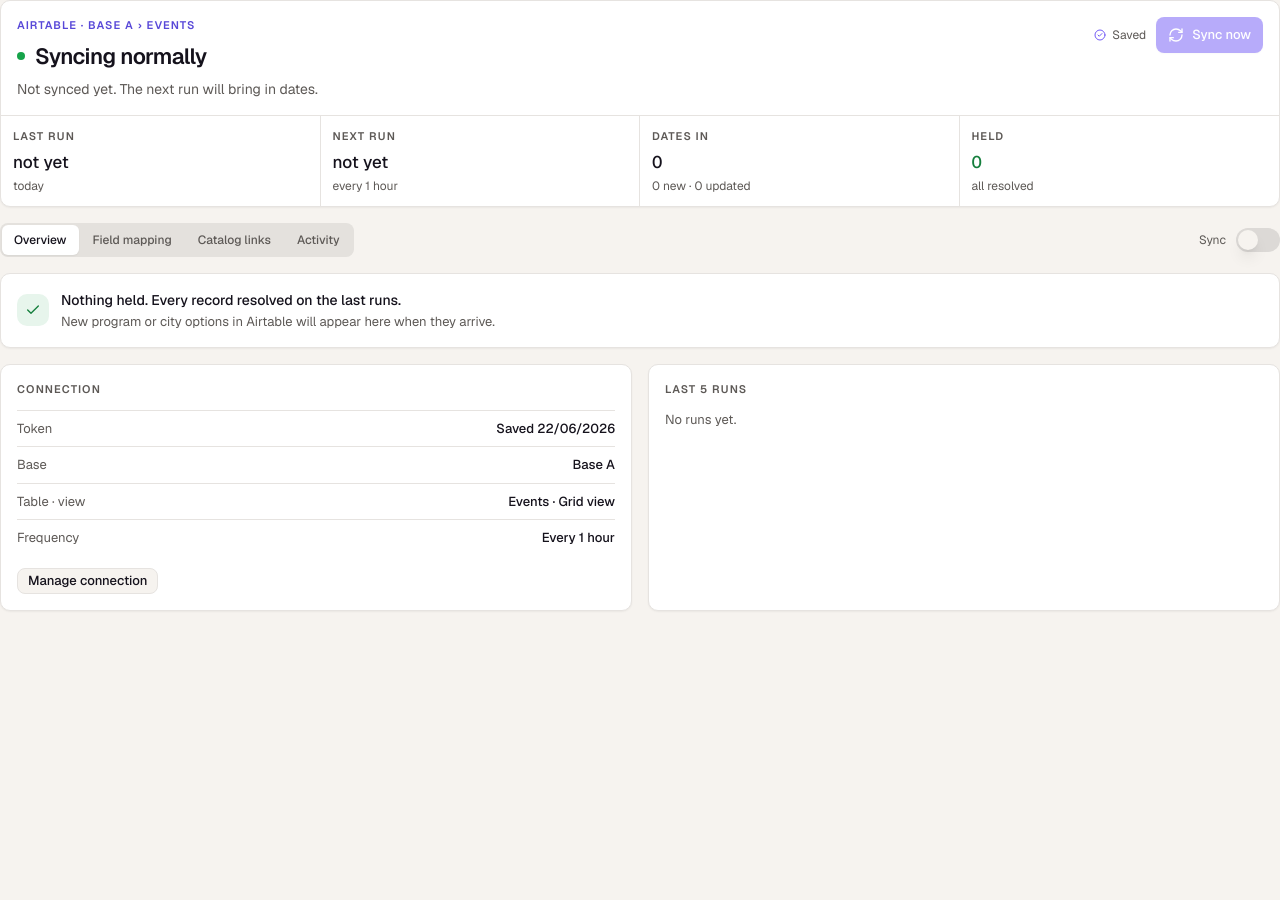
Scenario: AirtableSyncTab — console shell › switches to the Field-mapping tab (mapping headers) and the Activity tab (run history)
What coordinates should you click on to do the following:
click the button "Field mapping"
I would click on:
 (132, 240)
Its box is [80, 224, 184, 254].
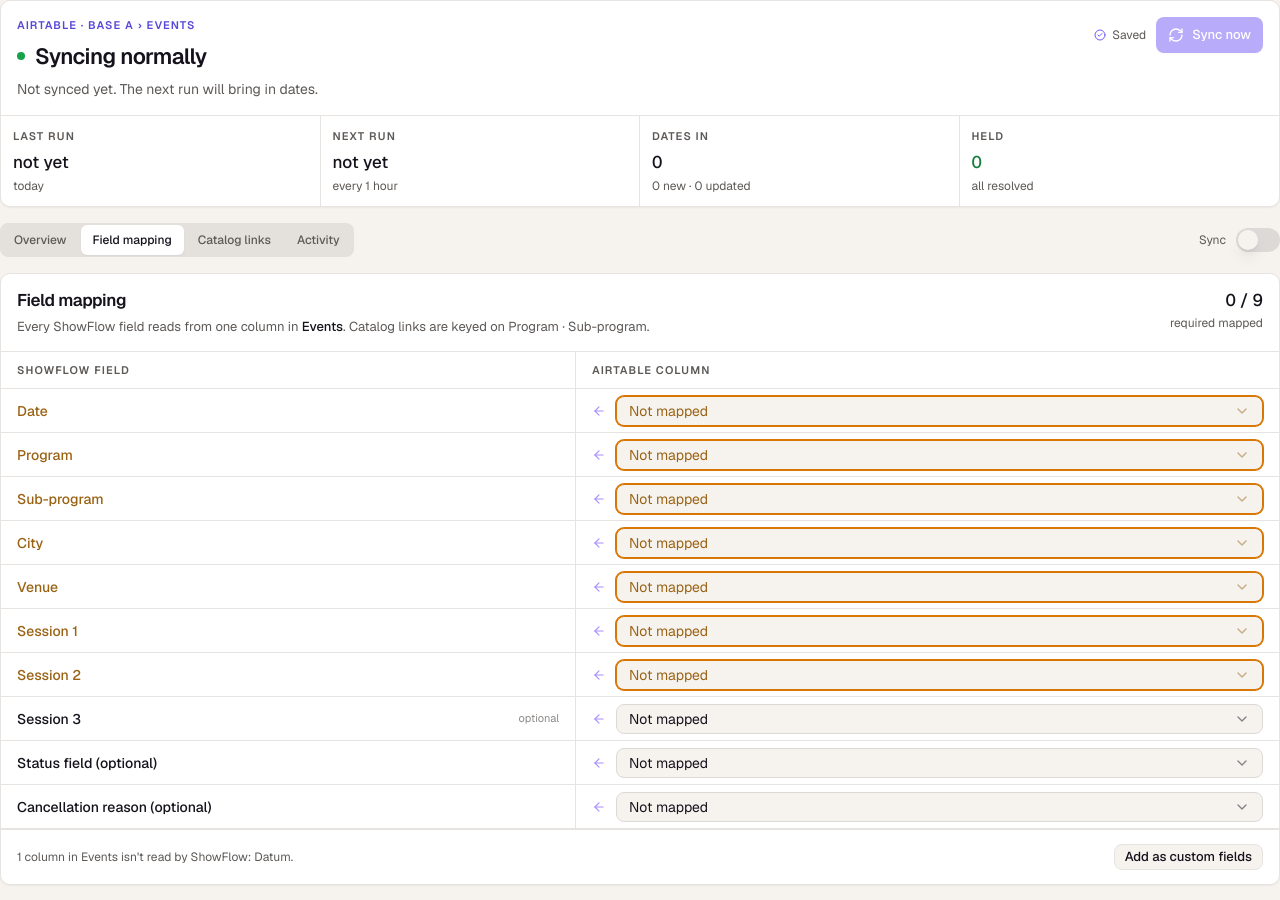
Expected: the text "ShowFlow field" is shown, [1, 352, 576, 389]
Expected: the text "Airtable column" is shown, [576, 352, 1279, 389]
What coordinates should you click on to do the following:
click the button "Activity"
I would click on:
 (318, 240)
Its box is [285, 224, 352, 254].
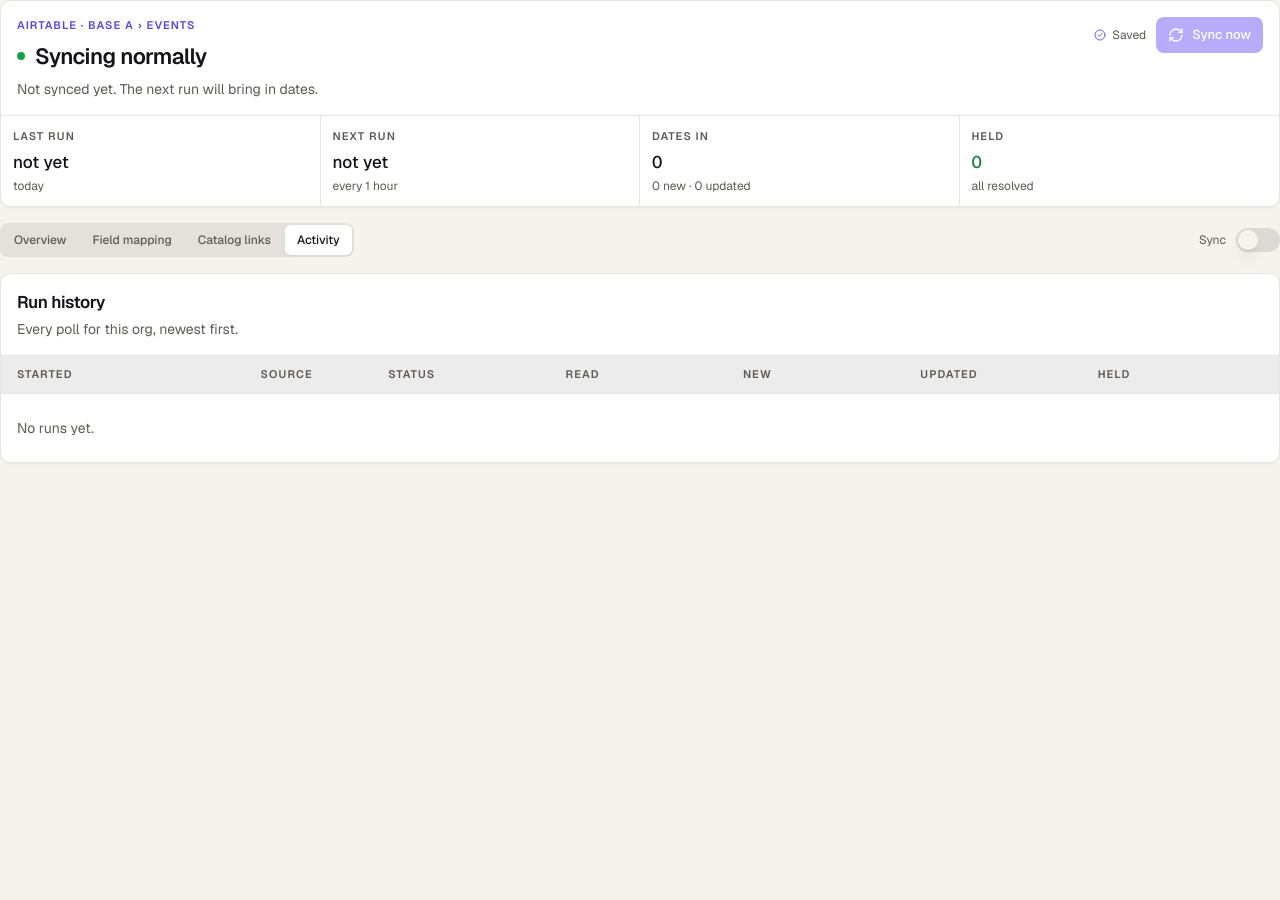
Expected: the heading "Run history" is shown, [17, 290, 105, 312]
